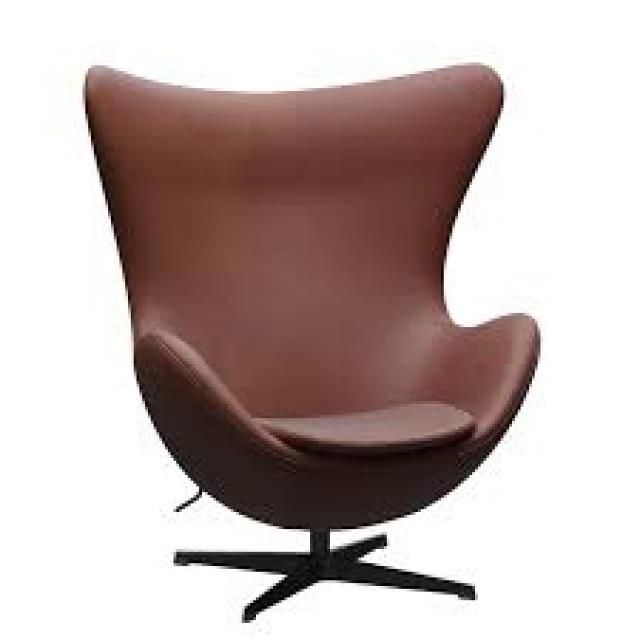chair: (37, 40, 603, 640)
